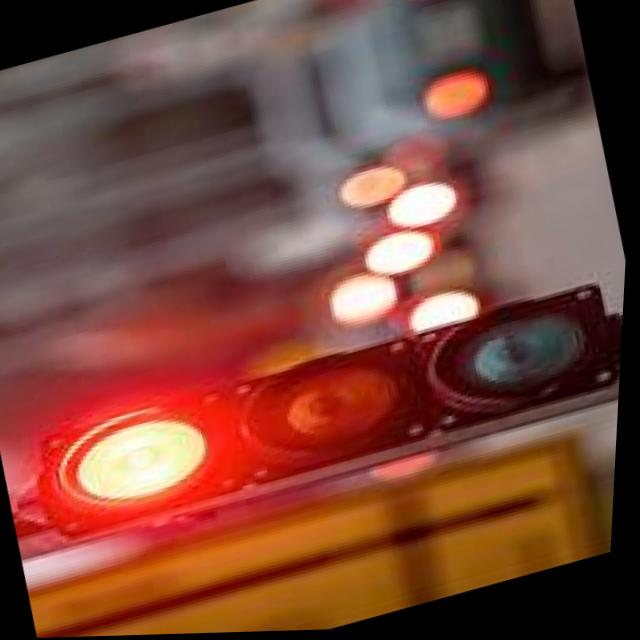red_light: (0, 358, 275, 580)
